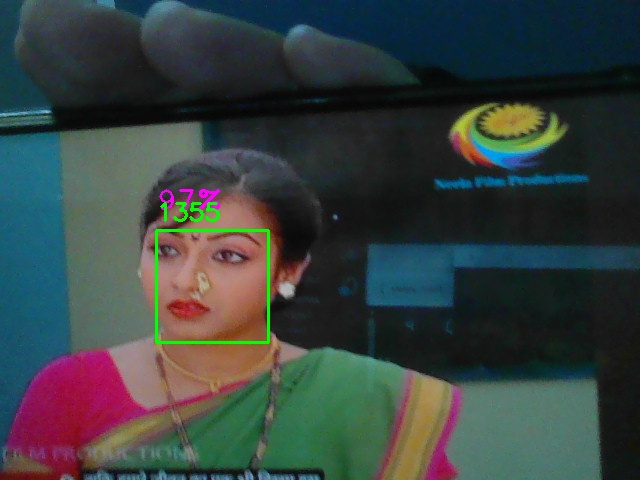fake: (156, 230, 269, 343)
